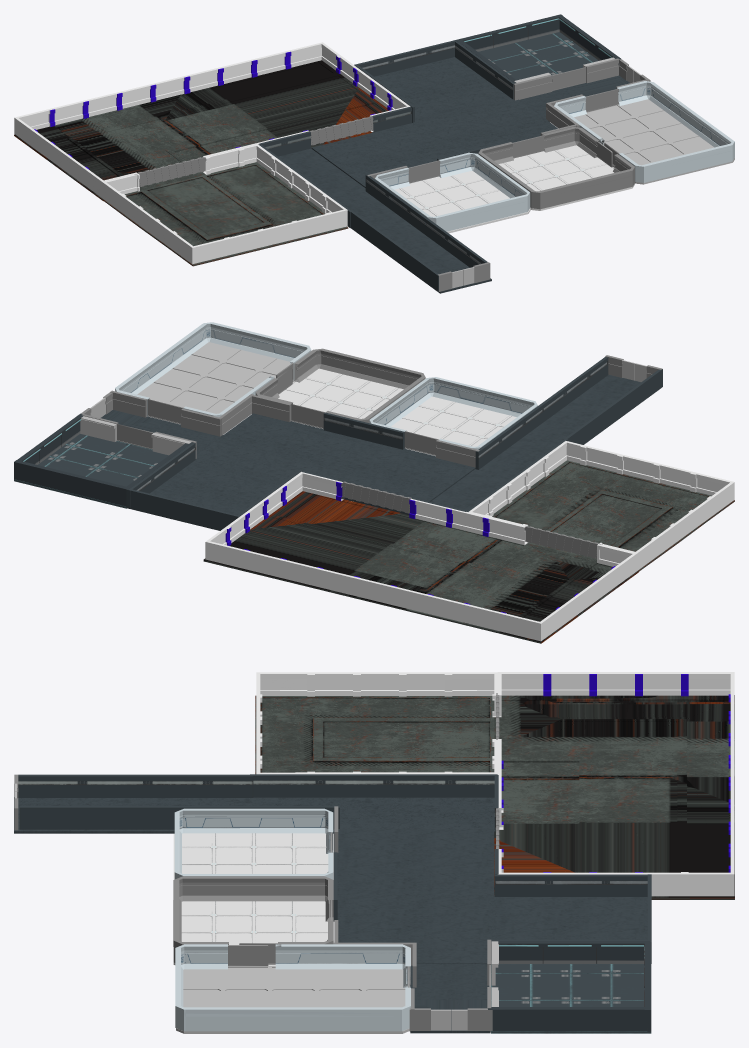
File: Level_Full 3.FBX
The picture shows the model from 3 angles, top to bottom: view 1: azimuth 30°, elevation 25°; view 2: azimuth 150°, elevation 25°; view 3: azimuth 270°, elevation 25°; orthographic projection. The views are drawn at different scales.
Parts seen in each view (by area): view 1: Box026, Box047, Box088, Box090, Labor_Boden_01, Box064, Labor_Wand_01, Flur_Boden_002, Flur_Boden_01, Flur_Boden_003, Labor_02, Labor_Wand_03 (+21 smaller); view 2: Box026, Box088, Box047, Box090, Flur_Boden_01, Labor_Boden_01, Box064, Flur_Boden_003, Labor_Wand_01, Flur_Boden_002, Box048, Labor_02 (+24 smaller); view 3: Box026, Box047, Labor_Wand_01, Flur_Boden_003, Box088, Labor_Boden_01, Flur_Boden_01, Box064, Box090, Box048, Flur_Boden_002, Labor_Boden_003 (+13 smaller).
Part boxes in pixels (x1,y1,x2,y2): Box026: [14, 60, 388, 201]; Box047: [104, 163, 348, 266]; Box088: [14, 42, 410, 198]; Box090: [102, 144, 347, 264]; Labor_Boden_01: [574, 99, 734, 184]; Box064: [278, 148, 491, 293]; Labor_Wand_01: [554, 81, 734, 182]; Flur_Boden_002: [374, 57, 512, 123]; Flur_Boden_01: [412, 98, 557, 153]; Flur_Boden_003: [311, 123, 454, 187]; Labor_02: [375, 152, 530, 231]; Labor_Wand_03: [478, 127, 634, 209]; Box026: [203, 491, 638, 643]; Box088: [205, 471, 637, 641]; Box047: [492, 460, 734, 571]; Box090: [468, 441, 734, 570]; Flur_Boden_01: [195, 413, 362, 482]; Labor_Boden_01: [137, 342, 294, 424]; Box064: [431, 374, 659, 510]; Flur_Boden_003: [317, 440, 475, 514]; Labor_Wand_01: [115, 322, 311, 417]; Flur_Boden_002: [126, 460, 283, 530]; Box048: [14, 434, 168, 508]; Labor_02: [369, 377, 537, 449]; Box026: [494, 695, 734, 899]; Box047: [255, 695, 495, 774]; Labor_Wand_01: [175, 944, 410, 1031]; Flur_Boden_003: [334, 829, 494, 896]; Box088: [497, 672, 734, 896]; Labor_Boden_01: [176, 966, 409, 1033]; Flur_Boden_01: [337, 895, 495, 963]; Box064: [14, 797, 495, 833]; Box090: [256, 672, 497, 774]; Box048: [491, 964, 651, 1033]; Flur_Boden_002: [490, 896, 647, 939]; Labor_Boden_003: [173, 901, 333, 966].
Size of the model in its own units: 99.76 by 3.54 by 89.89.
